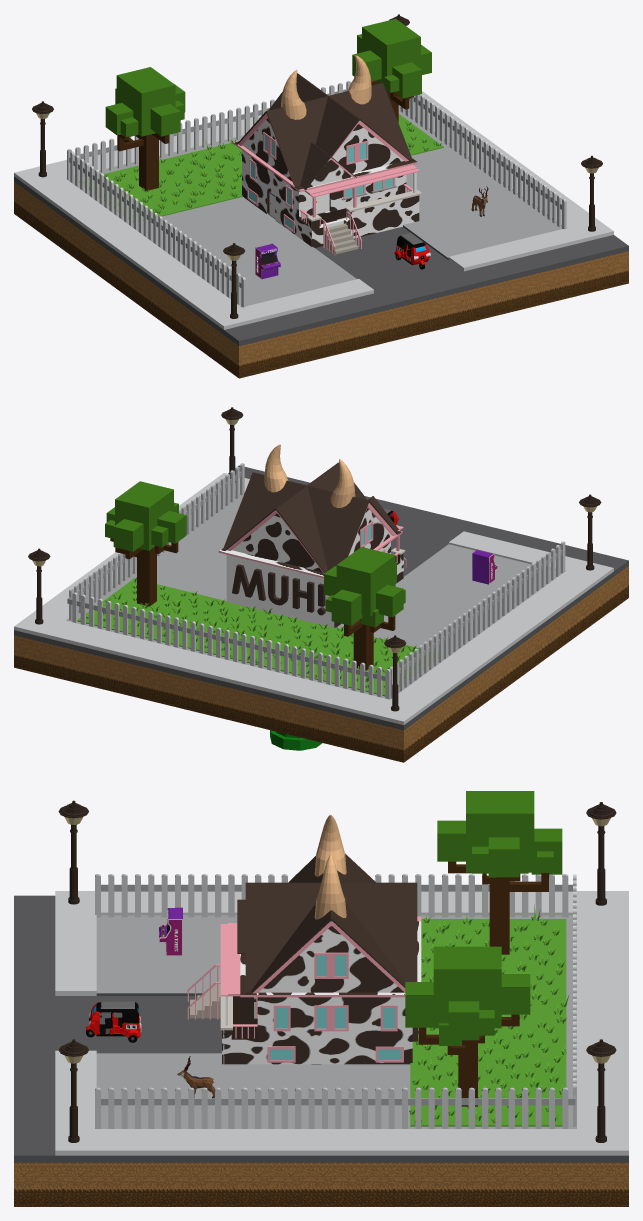
3 views of the same model, one above another, from view 1: azimuth 30°, elevation 25°; view 2: azimuth 150°, elevation 25°; view 3: azimuth 270°, elevation 25° (orthographic). The views are drawn at different scales.
Parts seen in each view (by area): view 1: Cube.004, Cube.1242, VEHICLES_TUC_TUC, OBJRANDOM_ARCADE; view 2: Cube.004, Cube.1242, OBJRANDOM_ARCADE, UNDERGROUND_PIPES; view 3: Cube.004, Cube.1242, VEHICLES_TUC_TUC, OBJRANDOM_ARCADE.
Part boxes in pixels (box(x1,y1,x2,y2)): Cube.004: box(14, 14, 628, 378); Cube.1242: box(233, 55, 422, 255); VEHICLES_TUC_TUC: box(394, 233, 430, 269); OBJRANDOM_ARCADE: box(255, 243, 280, 279); Cube.004: box(14, 407, 628, 762); Cube.1242: box(218, 444, 406, 627); OBJRANDOM_ARCADE: box(472, 549, 497, 584); UNDERGROUND_PIPES: box(270, 730, 322, 750); Cube.004: box(14, 791, 628, 1206); Cube.1242: box(187, 814, 421, 1064); VEHICLES_TUC_TUC: box(86, 1001, 141, 1042); OBJRANDOM_ARCADE: box(159, 907, 182, 956).
Bounding box in the file's own units: 4000 × 2443 × 4000.
Materials: 44 (3 with a texture image).
